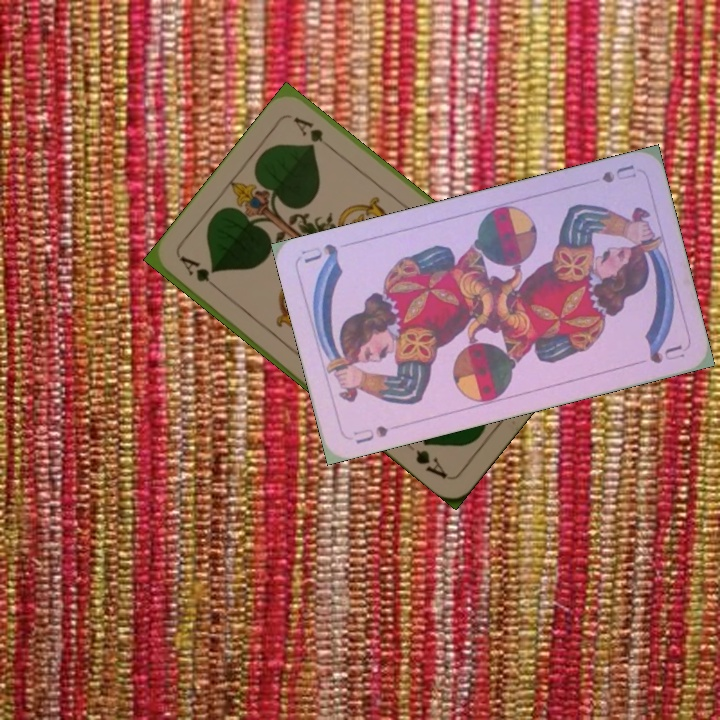GA: (175, 252, 225, 296)
SU: (349, 421, 391, 447), (598, 160, 639, 186)
